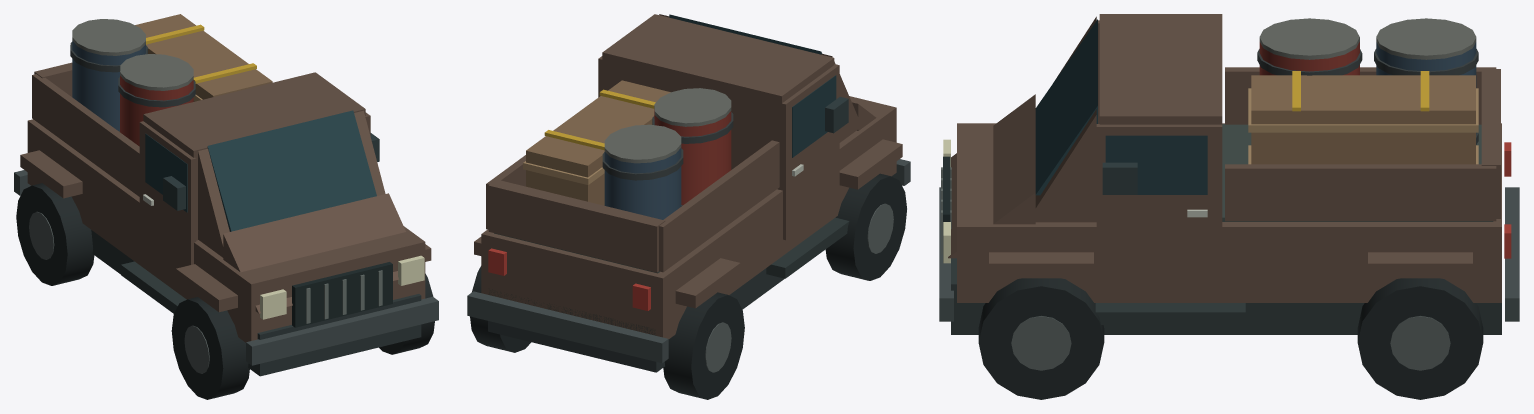
File: CMU3DReduxAU14VehicleCivBrownBarrelsTruck.glb
3 renders of one model, left to right at view 1: azimuth 30°, elevation 25°; view 2: azimuth 150°, elevation 25°; view 3: azimuth 270°, elevation 25°, orthographic. The views are drawn at different scales.
Visible parts, largest first — view 1: lower vehicle body, windshield, rubber road tire (×3), cab bulkhead, front hood, bed side wall, cab door skin, bumper, cargo drum (×2), drum lid (×2), wooden cargo crate, sealed chassis (+11 smaller); view 2: lower vehicle body, cab bulkhead, rubber road tire (×3), tailgate, bed side wall (×2), wooden cargo crate, cargo drum (×2), cab door skin, bumper, drum lid (×2), wheel fender (×2), sealed chassis (+10 smaller); view 3: lower vehicle body, rubber road tire (×2), wooden cargo crate, bed side wall (×2), cab door skin, cab bulkhead, sealed chassis, drum lid (×2), windshield, wheel fender (×2), front hood, recessed metal wheel hub (×2) (+11 smaller).
Boxes of the visible parts, x1,y1,x2,y2 form: lower vehicle body: (27, 119, 425, 342); windshield: (207, 110, 376, 231); rubber road tire (×3): (16, 183, 434, 399); cab bulkhead: (143, 72, 365, 240); front hood: (223, 193, 405, 313); bed side wall: (32, 74, 139, 196); cab door skin: (139, 121, 196, 278); bumper: (246, 296, 438, 365); cargo drum (×2): (72, 41, 193, 146); drum lid (×2): (72, 19, 193, 90); wooden cargo crate: (135, 14, 272, 101); sealed chassis: (91, 230, 421, 376); lower vehicle body: (481, 96, 896, 338); cab bulkhead: (602, 14, 834, 189); rubber road tire (×3): (470, 173, 906, 399); tailgate: (488, 179, 665, 272); bed side wall (×2): (486, 140, 779, 272); wooden cargo crate: (526, 80, 670, 205); cargo drum (×2): (604, 109, 731, 219); cab door skin: (780, 64, 839, 240); bumper: (467, 291, 668, 363); drum lid (×2): (604, 88, 731, 163); wheel fender (×2): (675, 139, 902, 308); sealed chassis: (488, 268, 784, 372); lower vehicle body: (957, 123, 1501, 302); rubber road tire (×2): (978, 278, 1483, 399); wooden cargo crate: (1251, 75, 1475, 164); bed side wall (×2): (1225, 67, 1496, 221); cab door skin: (1096, 124, 1222, 285); cab bulkhead: (1099, 14, 1222, 124); sealed chassis: (951, 258, 1501, 334); drum lid (×2): (1259, 18, 1476, 59); windshield: (1035, 19, 1097, 195); wheel fender (×2): (989, 252, 1472, 278); front hood: (948, 94, 1035, 258); recessed metal wheel hub (×2): (1011, 316, 1450, 370).
Bounding box in the file's own units: 1.29 × 1.31 × 2.49.
